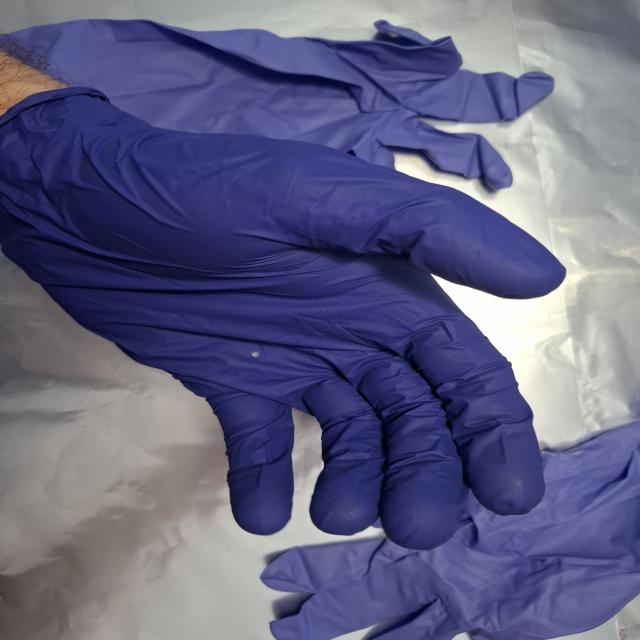glove_on: (0, 80, 571, 554)
